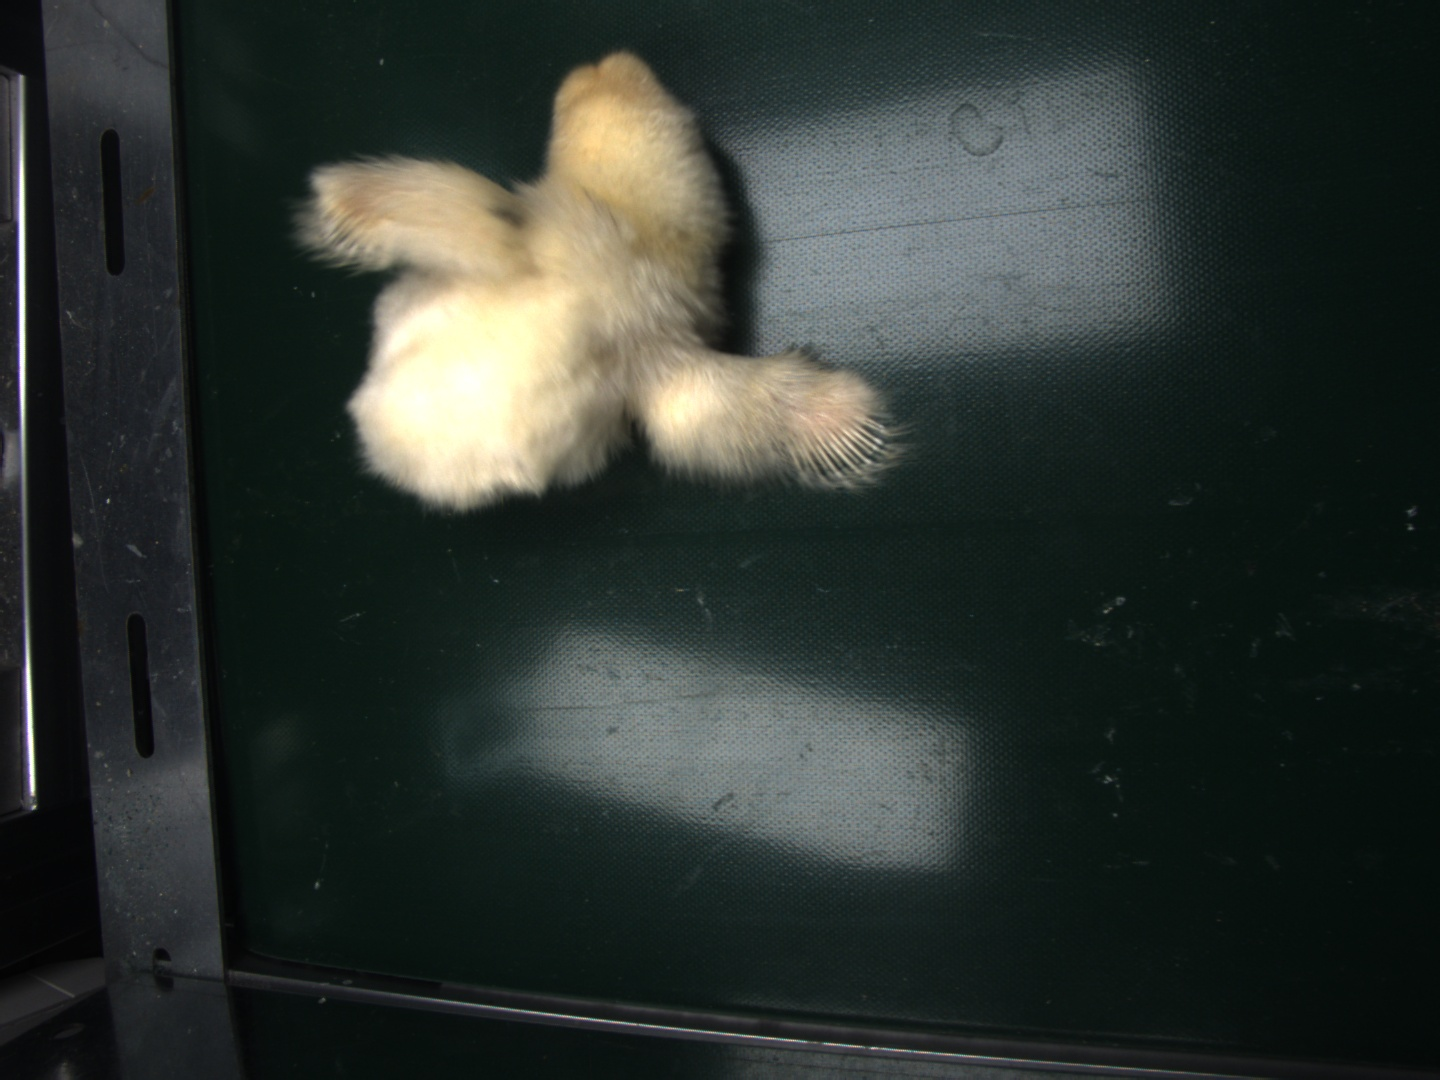male: (801, 417, 888, 480)
